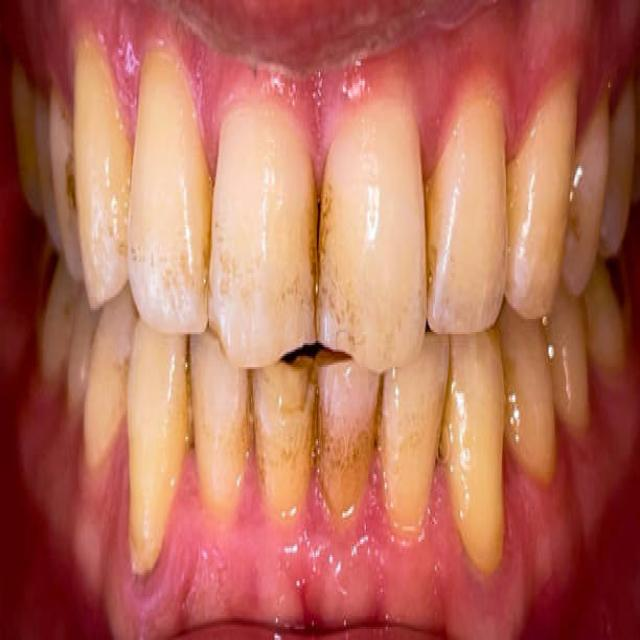Tooth Discoloration: (152, 355, 450, 547), (298, 146, 344, 358), (418, 146, 444, 345)
